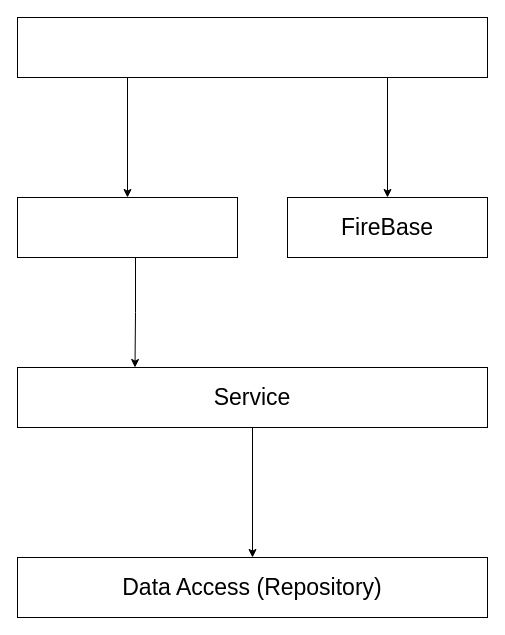
Some shapes in this 505 by 635 pixel diagram are drawn without their labels. Here are the shapes that lost their labels. From the top down, the box of each, then its label:
(16, 16, 488, 78): Presentation (UI)
(16, 196, 238, 258): Controller
